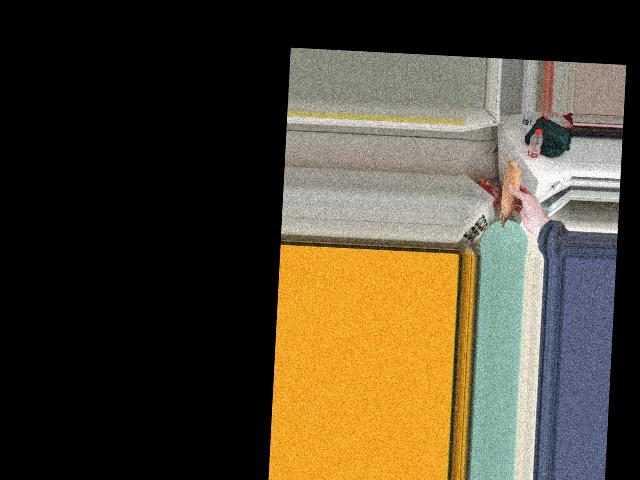sweet_potato: (498, 157, 526, 229)
